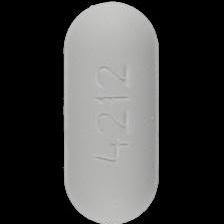43353-436: (0, 0, 224, 224)
